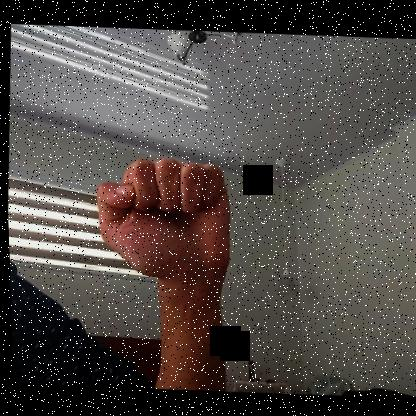A: (88, 152, 236, 287)
